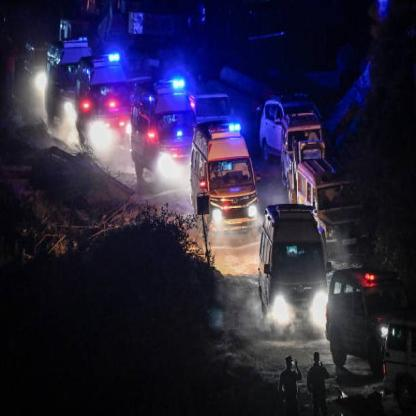priority: (188, 123, 262, 229), (134, 82, 186, 182), (74, 82, 132, 134)
